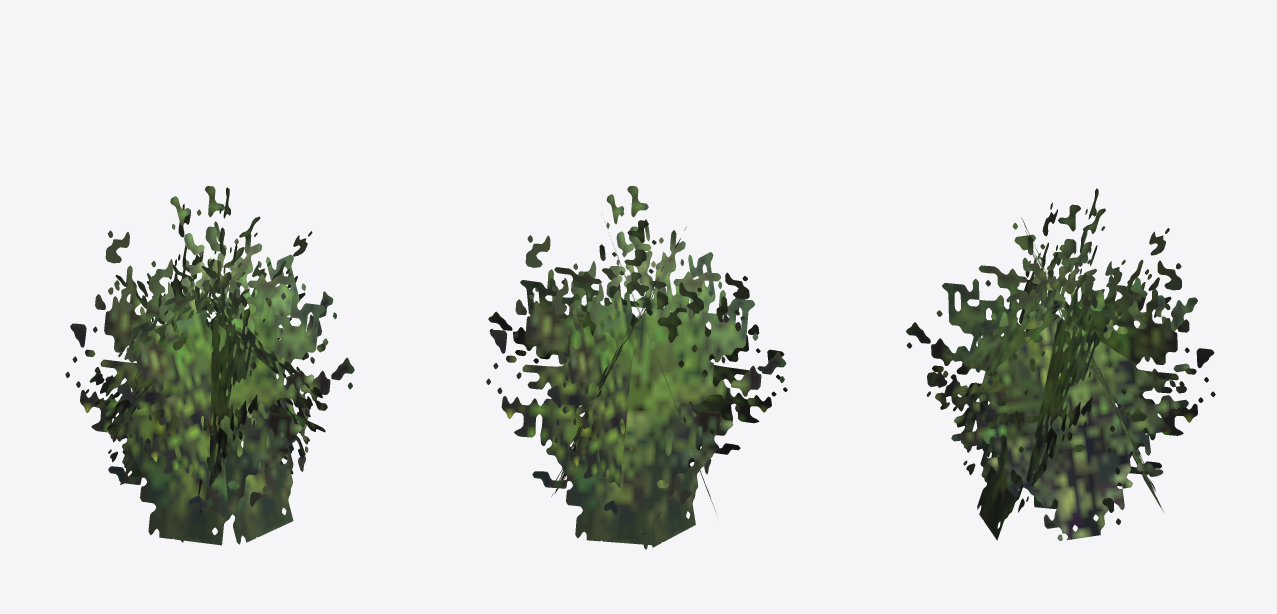
Rendered from bush_sm_6.glb.
3 renders of one model, left to right at view 1: azimuth 30°, elevation 25°; view 2: azimuth 150°, elevation 25°; view 3: azimuth 270°, elevation 25°, orthographic. The views are drawn at different scales.
Visible parts, largest first — view 1: bush_sm_6; view 2: bush_sm_6; view 3: bush_sm_6.
Part boxes in pixels (box(x1,y1,x2,y2)): bush_sm_6: box(65, 186, 354, 545); bush_sm_6: box(486, 186, 787, 549); bush_sm_6: box(906, 188, 1215, 540).
Size of the model in its own units: 2.83 by 3.32 by 2.65.
1 material, 1 textured.
